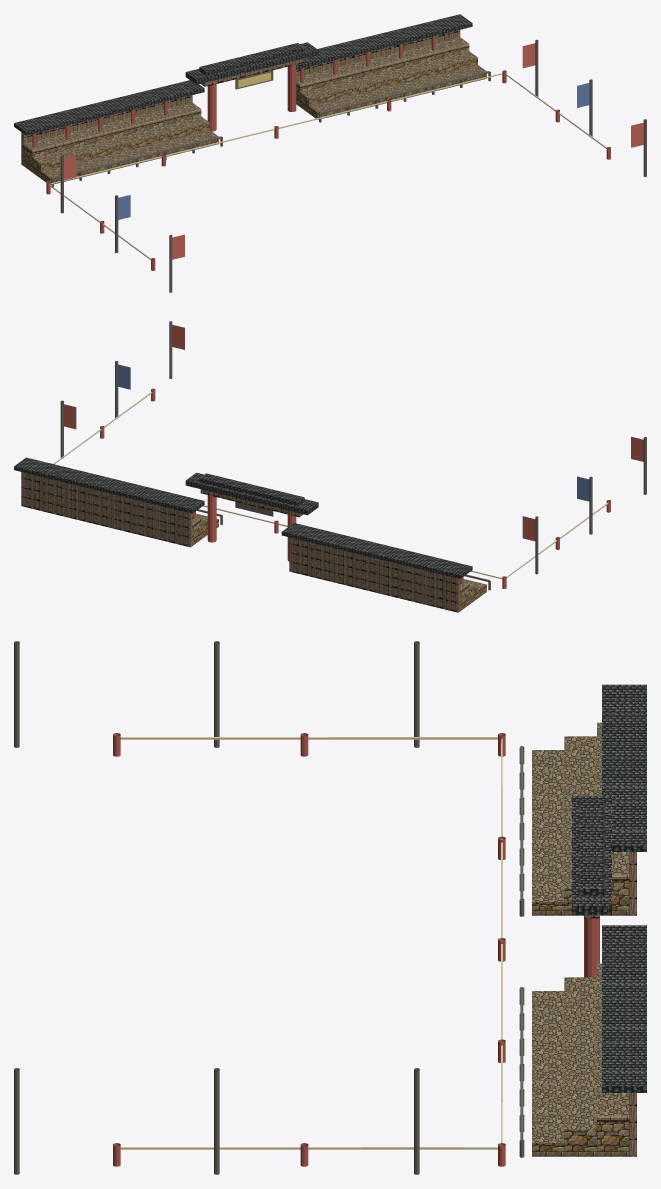
The model's file is st_ring.glb.
The picture shows the model from 3 angles, top to bottom: view 1: azimuth 30°, elevation 25°; view 2: azimuth 150°, elevation 25°; view 3: azimuth 270°, elevation 25°; orthographic projection. The views are drawn at different scales.
Visible parts, largest first — view 1: cobble, roof, stone, wood, dark, red, rope, flag0, flag1; view 2: wood, roof, dark, flag0, red, stone, rope, flag1; view 3: cobble, roof, dark, stone, rope, red, wood.
Boxes of the visible parts, left/top/right/bottom form: cobble: left=24, top=37, right=486, bottom=177; roof: left=14, top=14, right=472, bottom=135; stone: left=23, top=44, right=486, bottom=184; wood: left=21, top=30, right=460, bottom=165; dark: left=51, top=39, right=646, bottom=292; red: left=32, top=36, right=610, bottom=270; rope: left=49, top=73, right=606, bottom=259; flag0: left=64, top=43, right=643, bottom=259; flag1: left=118, top=83, right=589, bottom=219; wood: left=21, top=472, right=460, bottom=612; roof: left=14, top=457, right=472, bottom=578; dark: left=60, top=321, right=646, bottom=590; flag0: left=63, top=324, right=643, bottom=541; red: left=100, top=388, right=610, bottom=588; stone: left=192, top=518, right=486, bottom=610; rope: left=53, top=391, right=608, bottom=578; flag1: left=117, top=364, right=589, bottom=501; cobble: left=532, top=722, right=629, bottom=1142; roof: left=572, top=684, right=646, bottom=1092; dark: left=14, top=641, right=524, bottom=1174; stone: left=532, top=875, right=629, bottom=1156; rope: left=120, top=737, right=502, bottom=1149; red: left=113, top=733, right=599, bottom=1166; wood: left=584, top=852, right=636, bottom=1156.
Bounding box in the file's own units: 406 × 51.01 × 253.
Materials: 10 (4 with a texture image).
